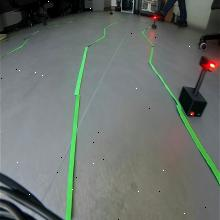red: (199, 55, 216, 72)
